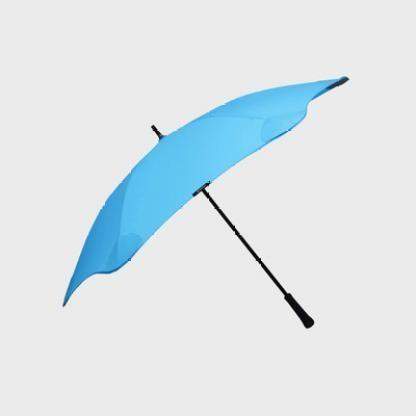Umbrella: (53, 64, 356, 344)
